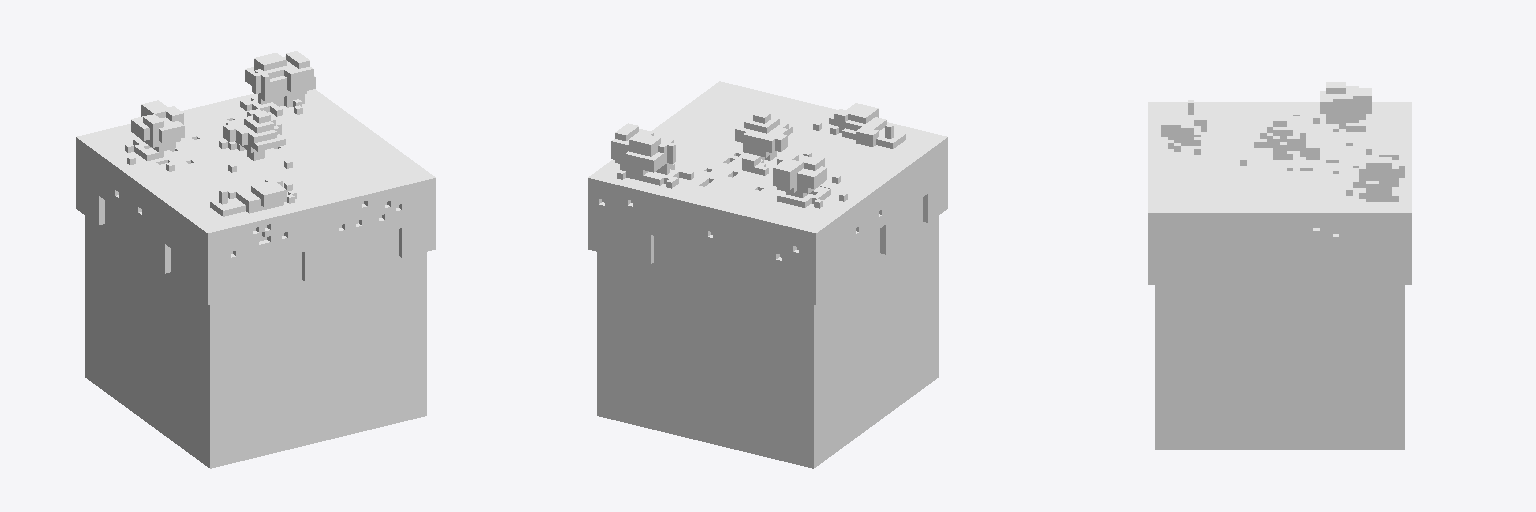
File: tile_base_top_4.obj
The picture shows the model from 3 angles: view 1: azimuth 30°, elevation 25°; view 2: azimuth 150°, elevation 25°; view 3: azimuth 270°, elevation 25°; orthographic projection.
Visible parts, largest first — view 1: tile_base_top_4; view 2: tile_base_top_4; view 3: tile_base_top_4.
Boxes of the visible parts, x1=… form: tile_base_top_4: x1=76, y1=51, x2=435, y2=468; tile_base_top_4: x1=588, y1=81, x2=947, y2=468; tile_base_top_4: x1=1148, y1=82, x2=1411, y2=449.
Size of the model in its own units: 40 by 47 by 40.